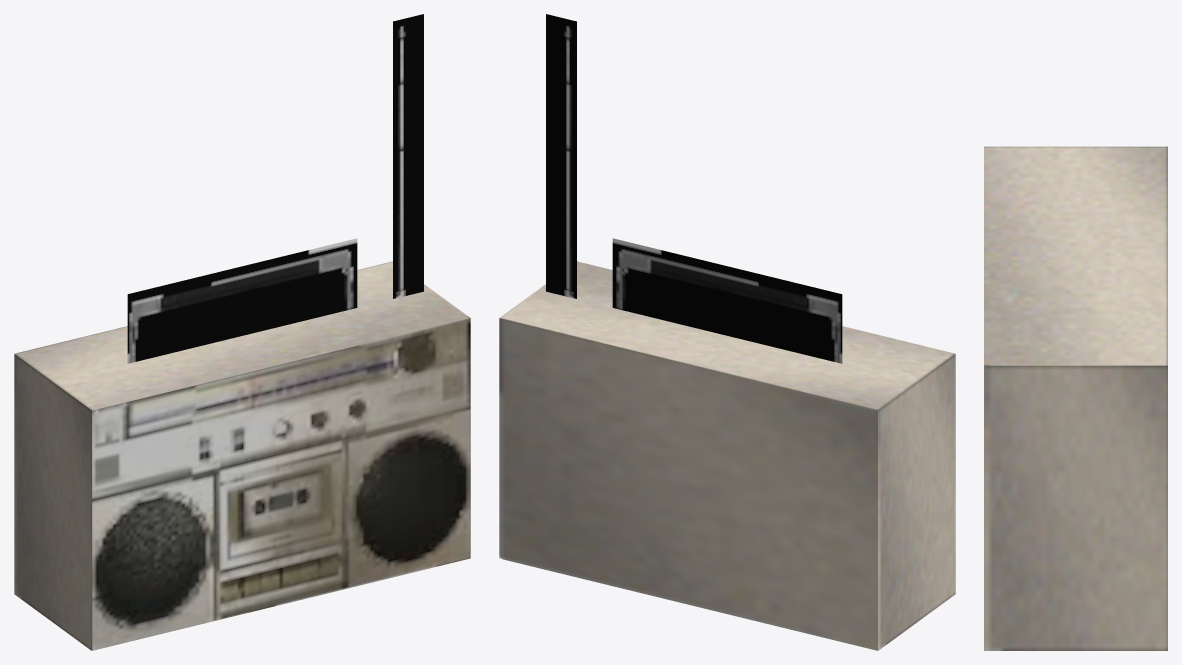
The model's file is radio.fbx.
The picture shows the model from 3 angles, left to right: view 1: azimuth 30°, elevation 25°; view 2: azimuth 150°, elevation 25°; view 3: azimuth 270°, elevation 25°; orthographic projection. The views are drawn at different scales.
Visible parts, largest first — view 1: Cube; view 2: Cube; view 3: Cube.
Part boxes in pixels (box(x1,y1,x2,y2)): Cube: box(14, 14, 470, 650); Cube: box(499, 14, 955, 650); Cube: box(984, 146, 1167, 650).
Size of the model in its own units: 330 by 431 by 117.
3 materials, 3 textured.
